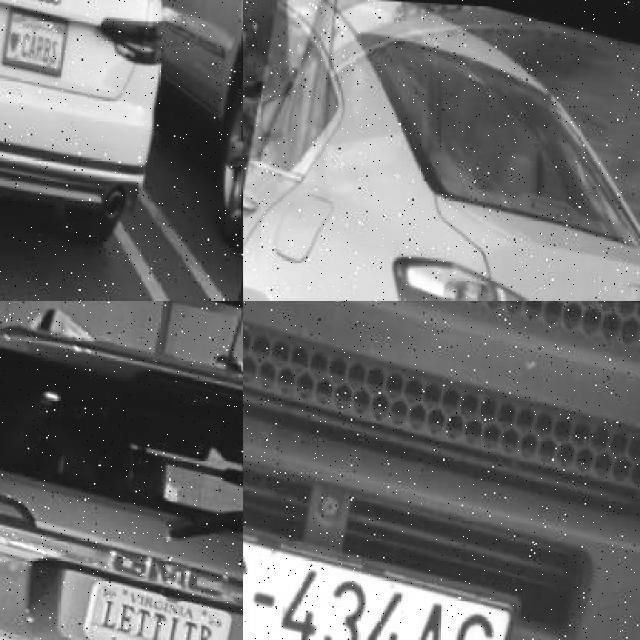LicensePlate: (243, 509, 497, 640), (79, 574, 231, 639), (0, 0, 68, 71)
